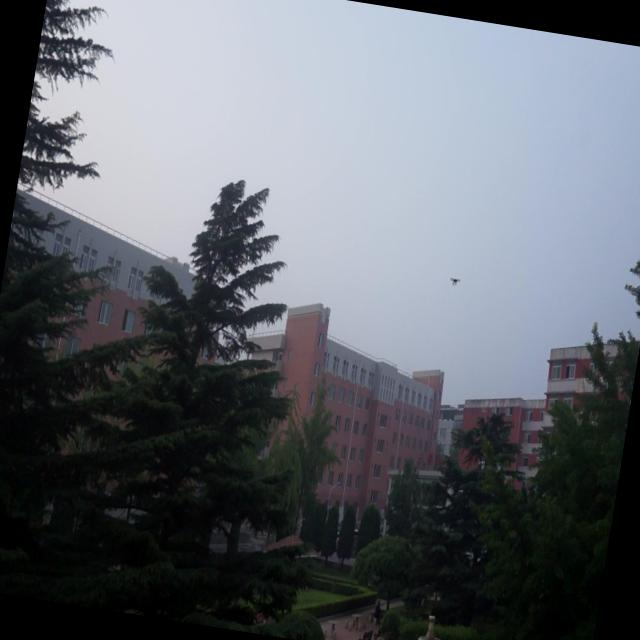drone: (448, 272, 462, 291)
